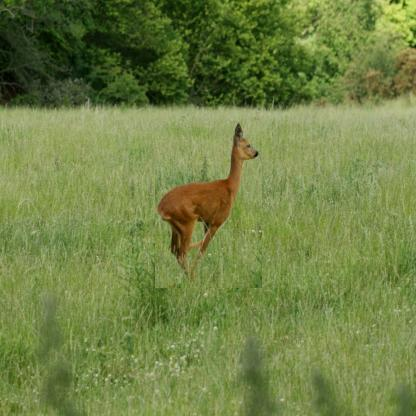Deer: (155, 121, 262, 288)
